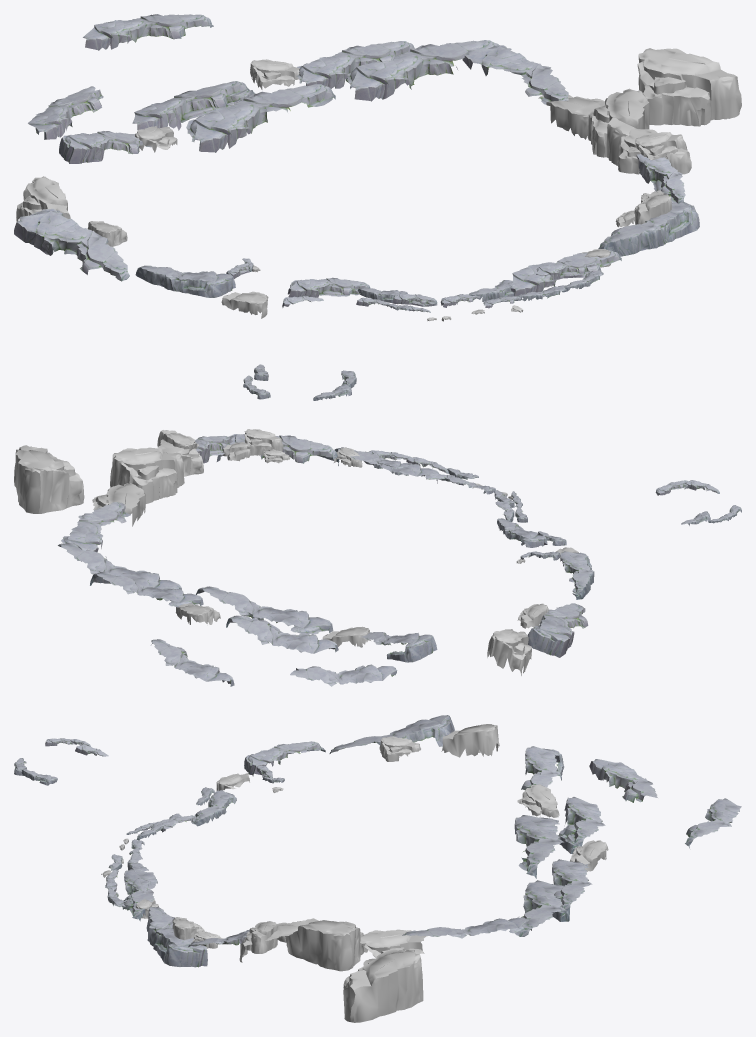
The model's file is b_com_rock_04.fbx.
3 renders of one model, top to bottom at view 1: azimuth 30°, elevation 25°; view 2: azimuth 150°, elevation 25°; view 3: azimuth 270°, elevation 25°, orthographic. The views are drawn at different scales.
Visible parts, largest first — view 1: b_com_rock_02, b_com_rock_03, b_com_rock_01; view 2: b_com_rock_03, b_com_rock_02, b_com_rock_01; view 3: b_com_rock_03, b_com_rock_02, b_com_rock_01.
Part boxes in pixels (x1=…): b_com_rock_02: x1=28, y1=14, x2=699, y2=256; b_com_rock_03: x1=16, y1=48, x2=741, y2=321; b_com_rock_01: x1=14, y1=208, x2=621, y2=400; b_com_rock_03: x1=14, y1=429, x2=578, y2=675; b_com_rock_02: x1=58, y1=434, x2=437, y2=686; b_com_rock_01: x1=334, y1=447, x2=741, y2=657; b_com_rock_03: x1=101, y1=724, x2=608, y2=1022; b_com_rock_02: x1=146, y1=746, x2=741, y2=967; b_com_rock_01: x1=14, y1=715, x2=454, y2=921.
Bounding box in the file's own units: 524524 × 49451 × 548817.
